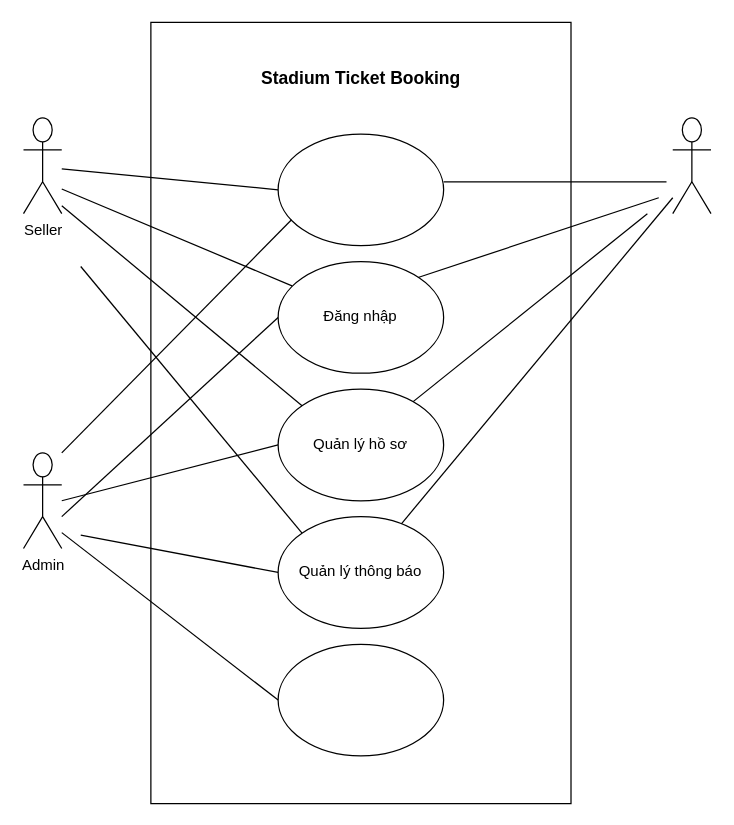
Image size: 734x825. Some labels were removed from this diagram. Here are the shapes that lost their labels. From the top down, the box of each, then its label:
(672, 117, 711, 214): Buyer
(277, 133, 444, 246): Đăng ký
(277, 643, 444, 756): Xem Audit log
